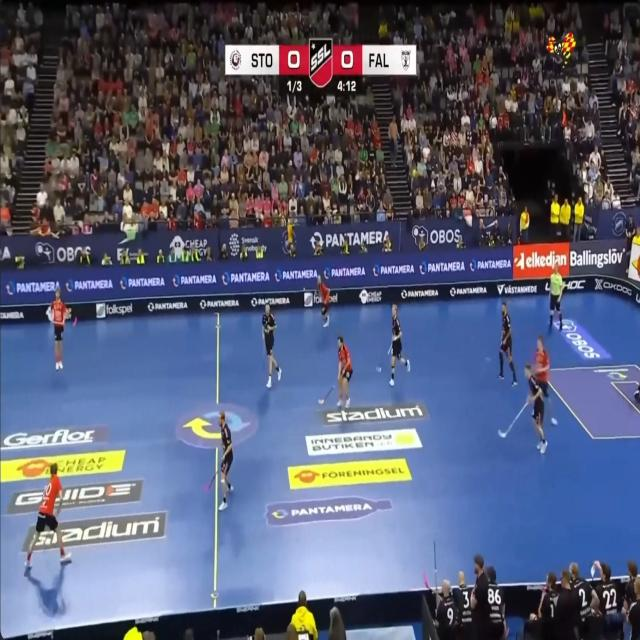player: (25, 463, 70, 569), (525, 363, 547, 453), (389, 304, 410, 385), (49, 287, 70, 368), (262, 304, 281, 387), (499, 301, 517, 385), (218, 412, 233, 510), (435, 580, 459, 639), (534, 336, 550, 409), (337, 336, 352, 407), (549, 265, 563, 330), (317, 276, 330, 327), (551, 417, 556, 425)
stick: (498, 403, 528, 437), (318, 385, 334, 404), (433, 539, 437, 602), (205, 470, 217, 490), (423, 570, 430, 588), (387, 344, 392, 355), (72, 317, 77, 326), (375, 364, 381, 371)
